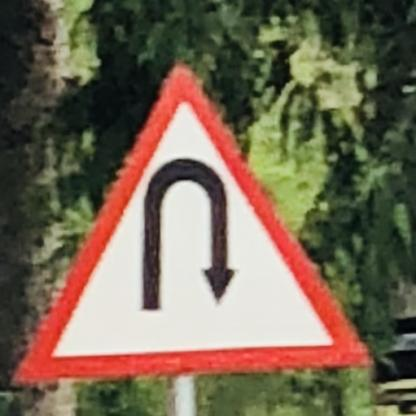U-Turn: (6, 62, 377, 386)
